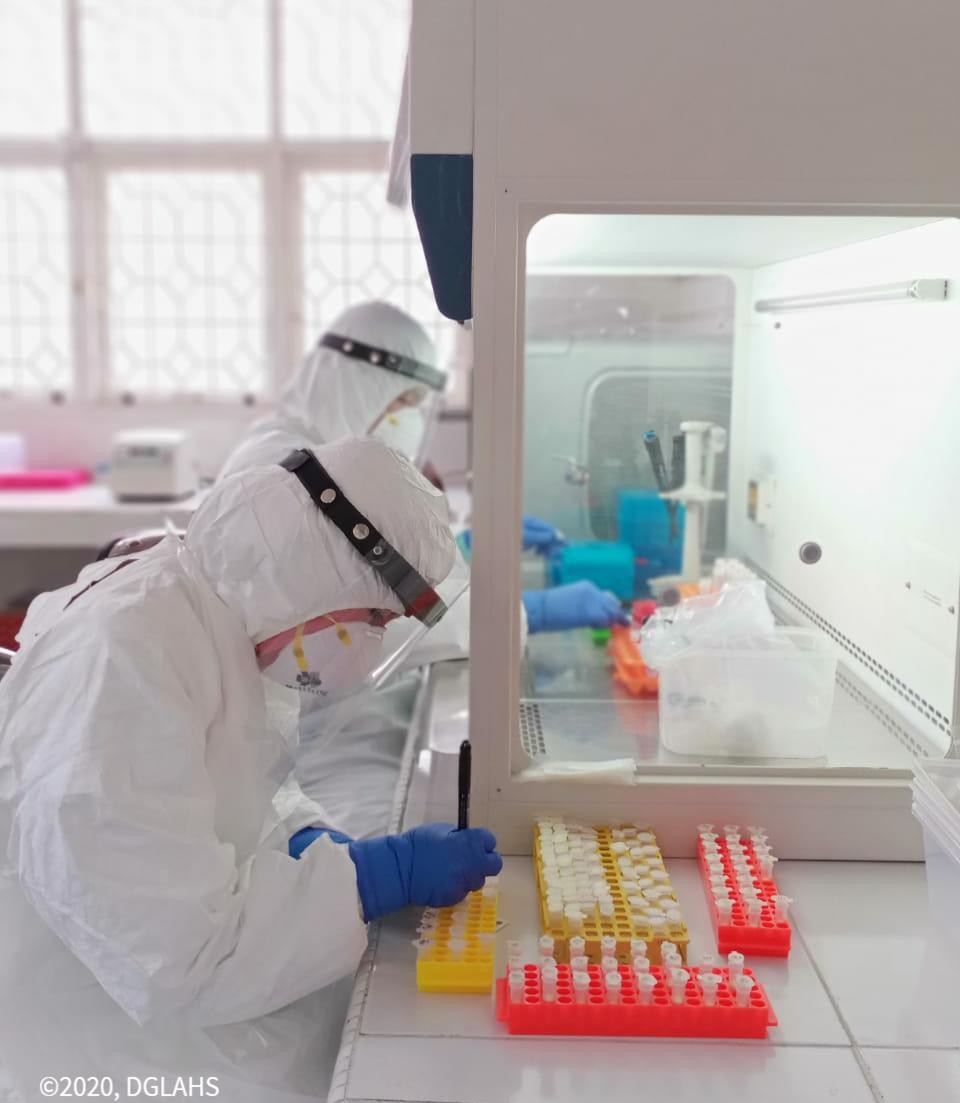Coverall: (1, 438, 456, 1103), (227, 299, 443, 489)
Face_Shield: (279, 445, 467, 718), (315, 326, 453, 478)
Gloves: (349, 821, 506, 918), (517, 578, 632, 637), (457, 517, 562, 557)
with_mask: (262, 604, 412, 698), (374, 385, 433, 462)
